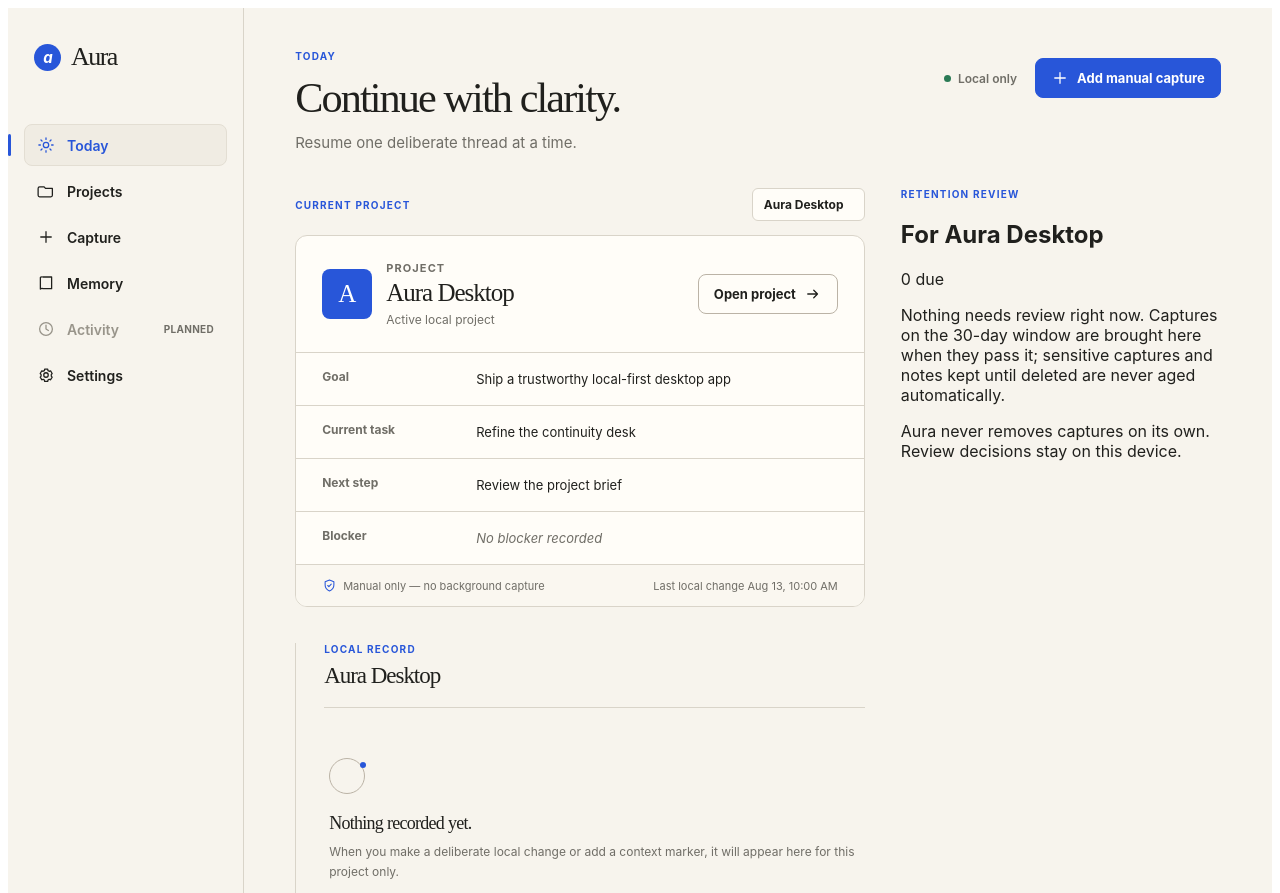
Scenario: Aura local privacy preferences › rejects an empty exclusion value without invoking the native command
Step 1. Click the button "Settings" → (126, 375), box [24,354,227,396]
(page scrolled)
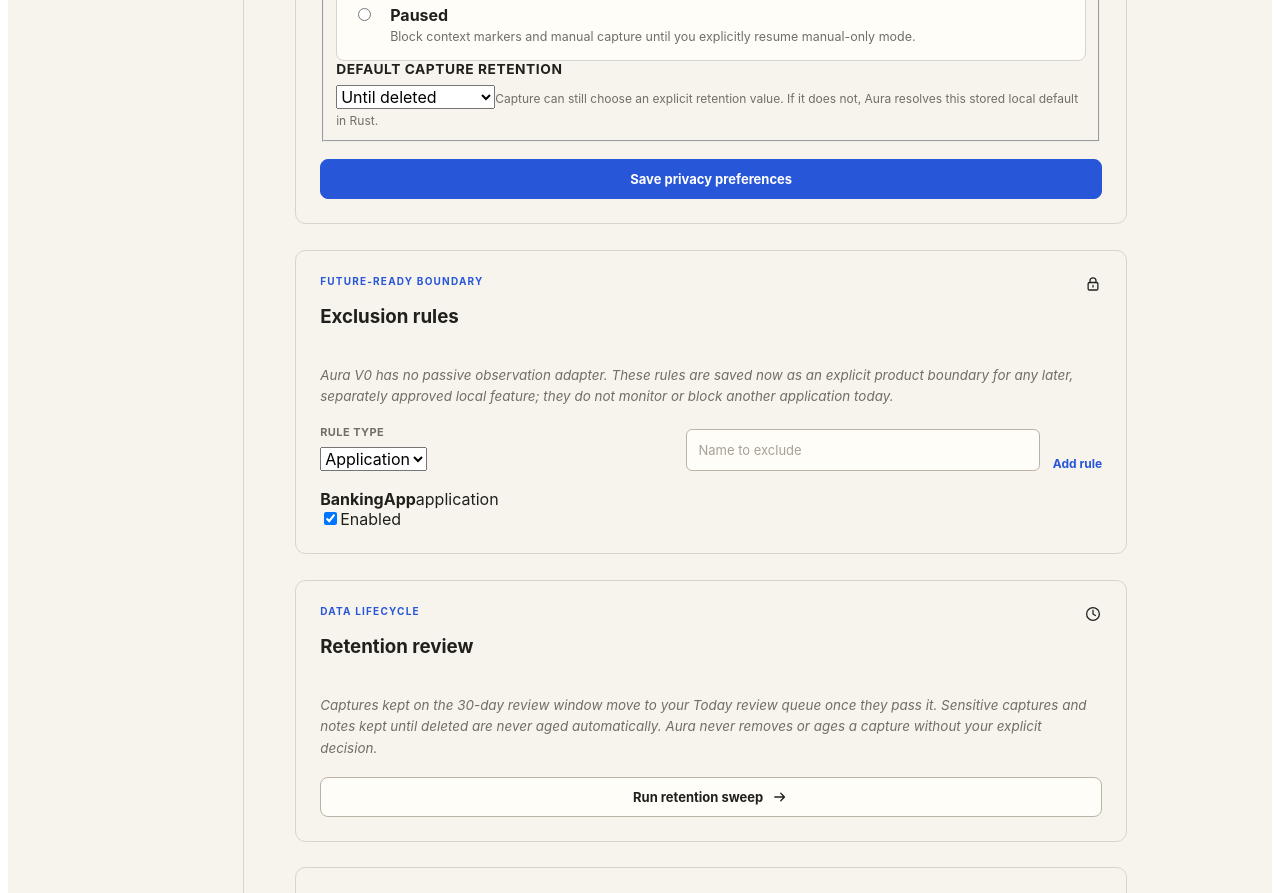
Expected: the field named "Exclusion value" is shown
Step 2. Clear the field named "Exclusion value" → (863, 450), box [686,429,1040,471]
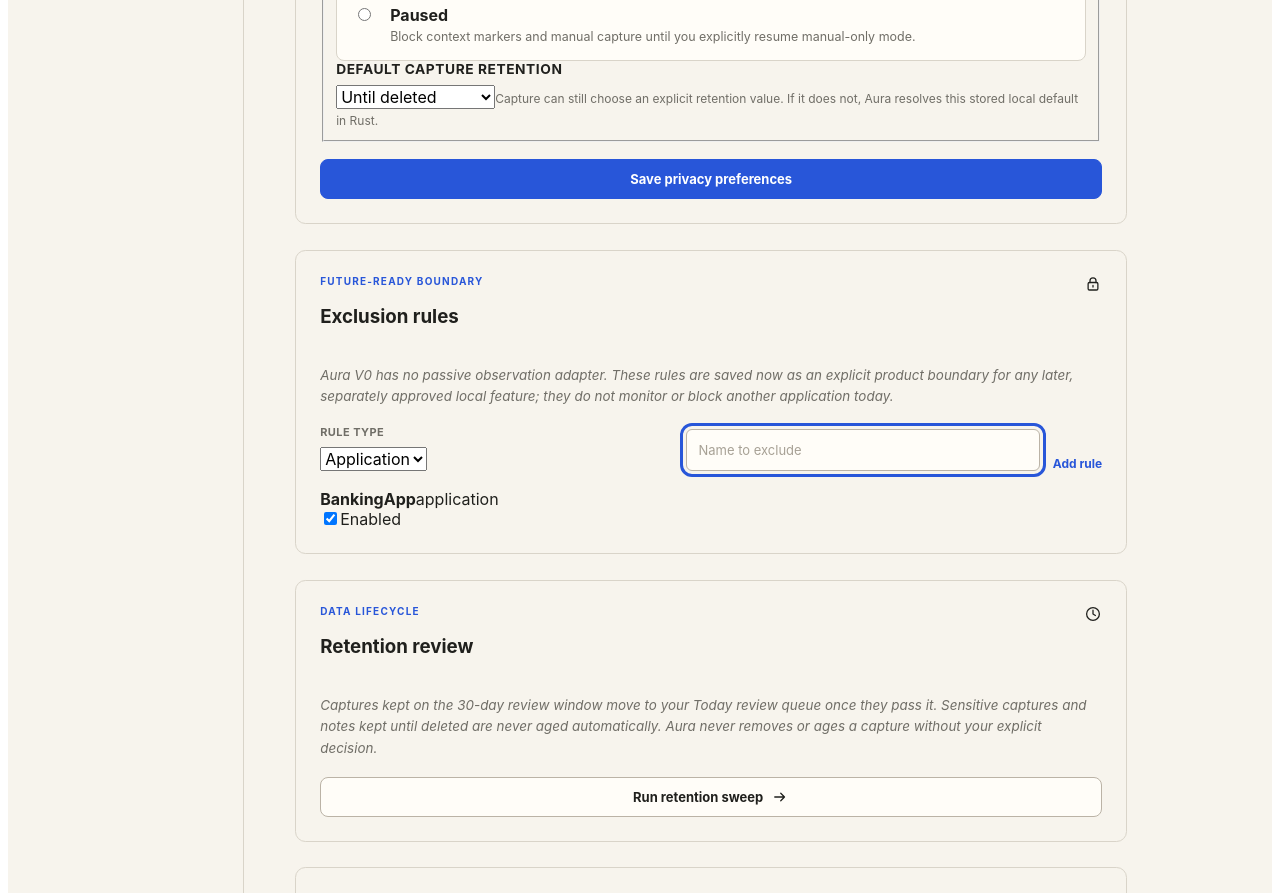
Step 3. Click the button "Add rule" → (1078, 464), box [1053,456,1102,471]
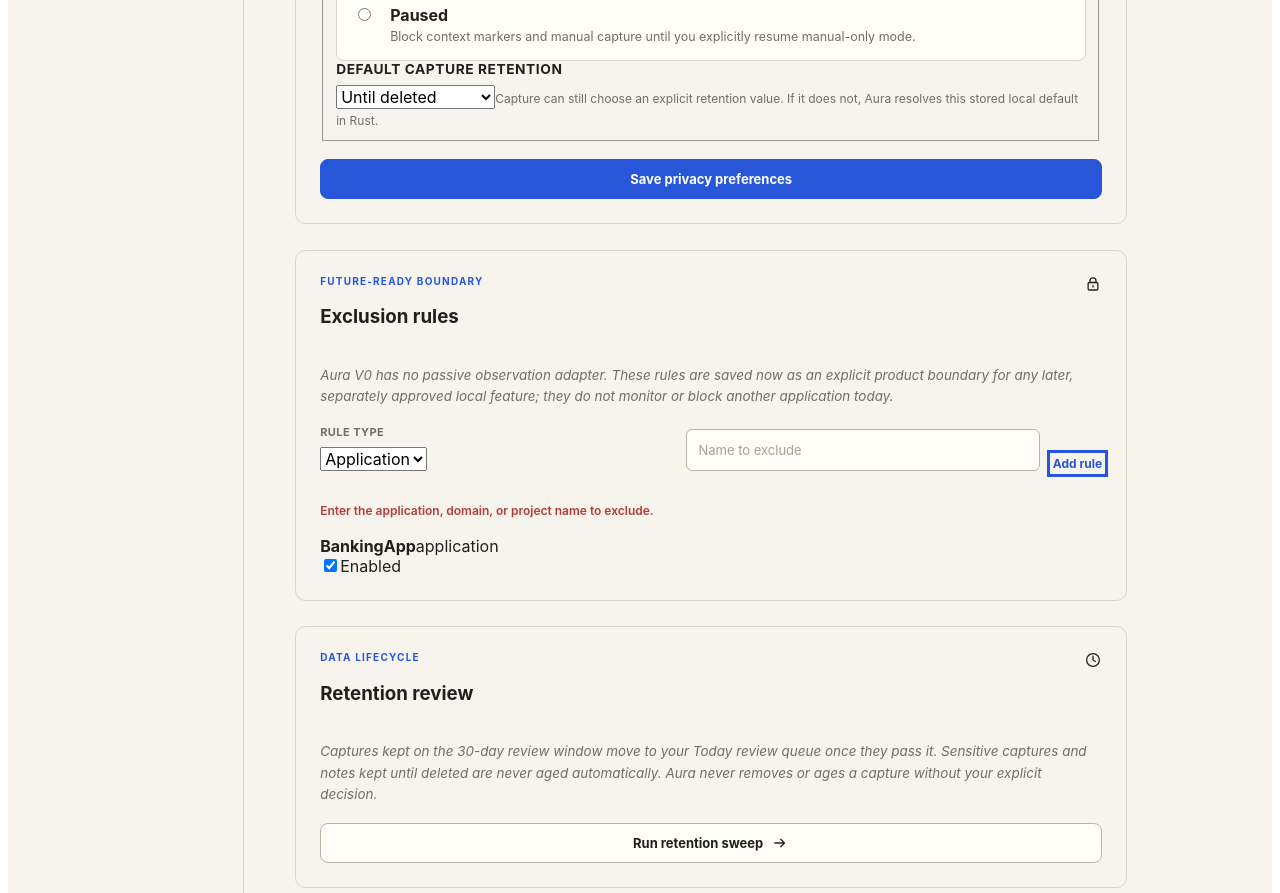
Expected: the text "Enter the application, domain, or project name to exclude." is shown, [320,503,654,518]
